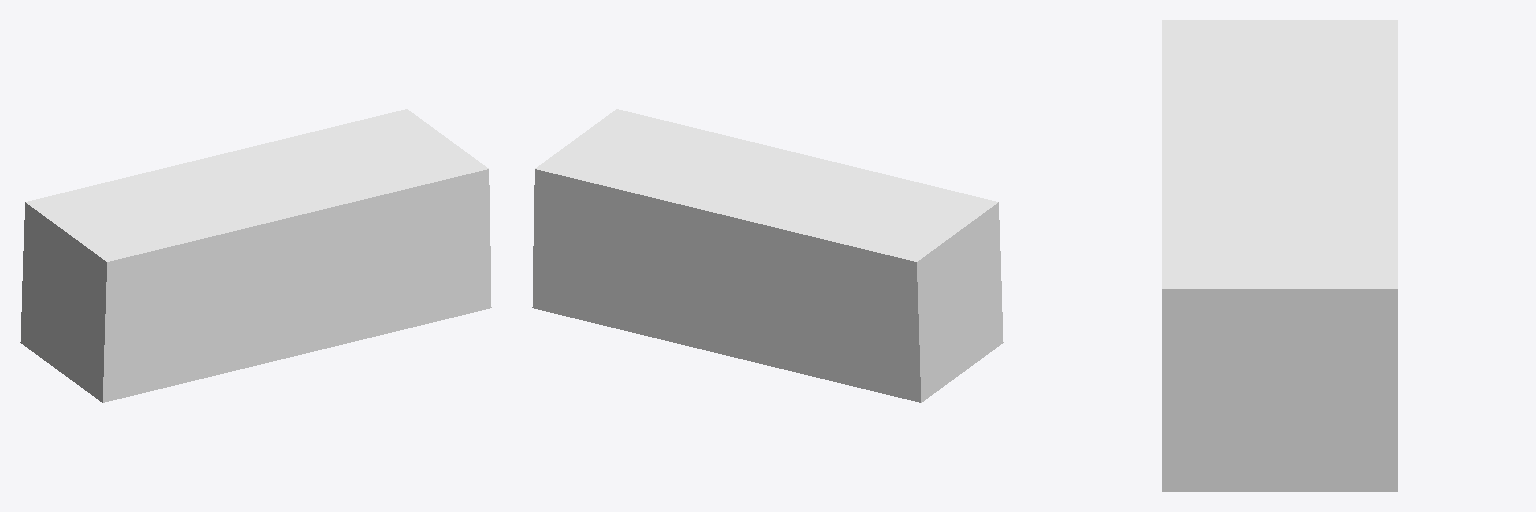
The robot description file, URDF, robot "scene":
<robot name="scene">
  <link name="base_link">
    <visual>
      <origin xyz="0 0 0" rpy="0 0 0" />
      <geometry>
        <mesh filename="package://hpp-quadcopter/meshes/scene_obs.stl"/>
      </geometry>
      <material name="white">
        <color rgba="1 1 1 1"/>
      </material>
    </visual>
    <visual>
      <origin xyz="0 0 0" rpy="0 0 0" />
      <geometry>
        <mesh filename="package://hpp-quadcopter/meshes/scene_cube.stl"/>
      </geometry>
      <material name="white">
        <color rgba="1 1 1 1"/>
      </material>
    </visual>
    <collision>
      <origin xyz="0 0 0" rpy="0 0 0" />
      <geometry>
        <mesh filename="package://hpp-quadcopter/meshes/scene_obs.stl"/>
      </geometry>
    </collision>
    <collision>
      <origin xyz="0 0 0" rpy="0 0 0" />
      <geometry>
        <mesh filename="package://hpp-quadcopter/meshes/scene_cube.stl"/>
      </geometry>
    </collision>
  </link>
</robot>

--- What the picture shows (computed from the rendered views, not written in the file) ---
Views: 3 orthographic renders of the robot side by side, from view 1: azimuth 30°, elevation 25°; view 2: azimuth 150°, elevation 25°; view 3: azimuth 270°, elevation 25°.
Robot: scene — 1 links, 0 joints (none); root link base_link; default pose: every joint at zero.
Links seen in each view (by area): view 1: base_link; view 2: base_link; view 3: base_link.
Boxes of the visible links, <box> form: base_link: <box>20,109,491,402</box>; base_link: <box>532,109,1003,402</box>; base_link: <box>1162,20,1397,491</box>.
Size in the robot's own frame: 27.31 by 10 by 9.38 metres.
Meshes: 2 distinct files referenced, 2 mesh visuals loaded (2 binary STL).